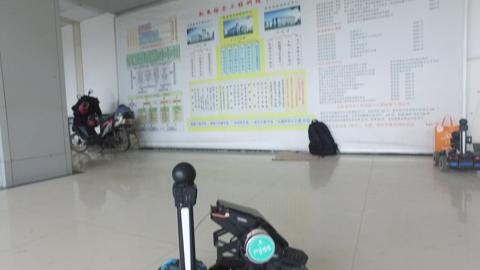bag: (305, 117, 341, 159), (433, 114, 463, 153)
chariot: (148, 161, 311, 270), (430, 117, 479, 172)
